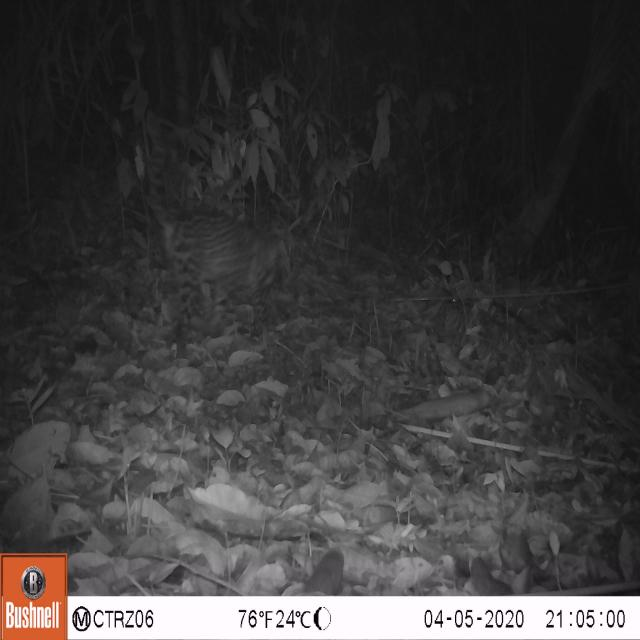Ocelote: (132, 150, 308, 339)
